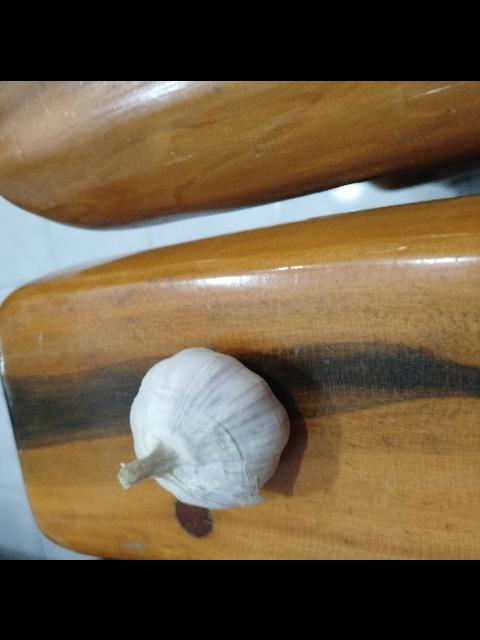garlic: (94, 312, 310, 542)
